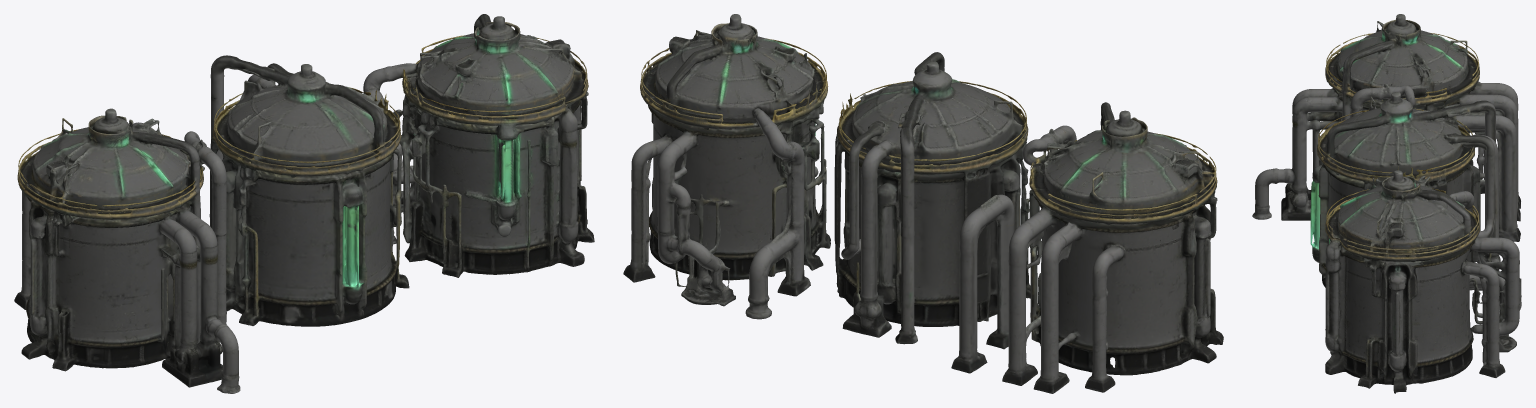
The model's file is gasTank.glb.
3 views of the same model, side by side, from view 1: azimuth 30°, elevation 25°; view 2: azimuth 150°, elevation 25°; view 3: azimuth 270°, elevation 25° (orthographic). The views are drawn at different scales.
Bounding box in the file's own units: 1.9 × 0.7396 × 0.9577.
Materials: 1 (1 with a texture image).
